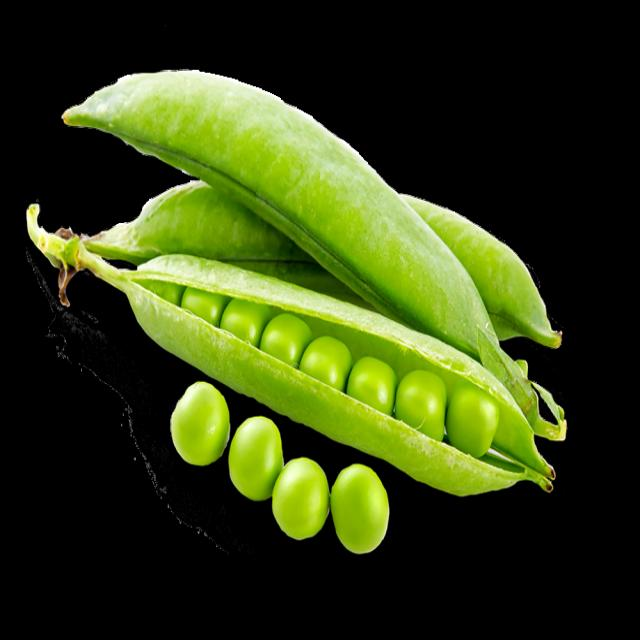pea: (166, 364, 396, 575), (243, 307, 507, 433)
